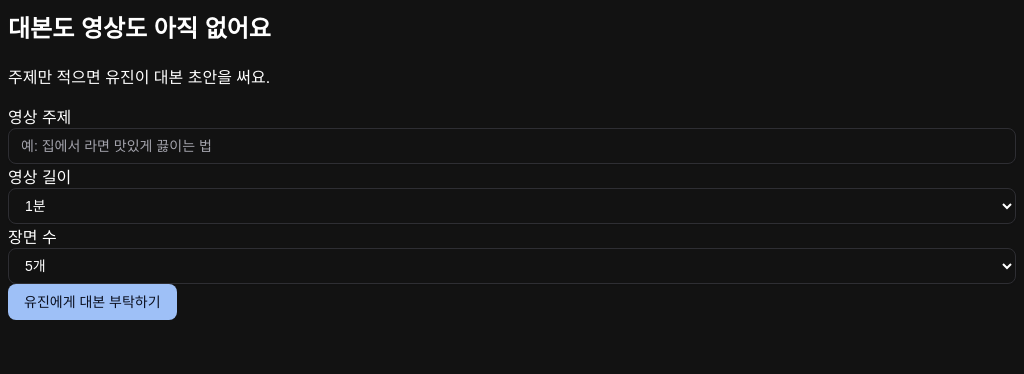
Test case: 유진이 대본 초안 쓰기 › 제 시간에 못 끝냈으면 짧게 부탁하라고 말한다
The width and height of the screenshot is (1024, 374).
In the field labelled "영상 주제": (512, 146) [8,128,1016,164], type "집에서 라면 맛있게 끓이는 법"
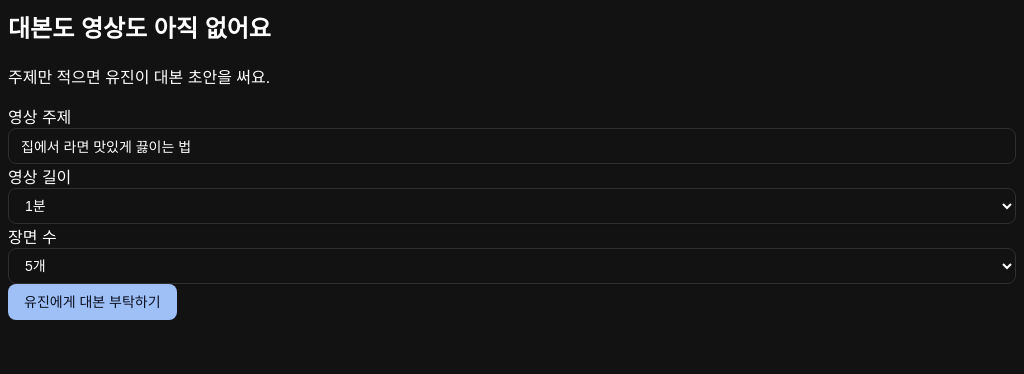
Click the button "유진에게 대본 부탁하기": (92, 302) [8,284,177,320]
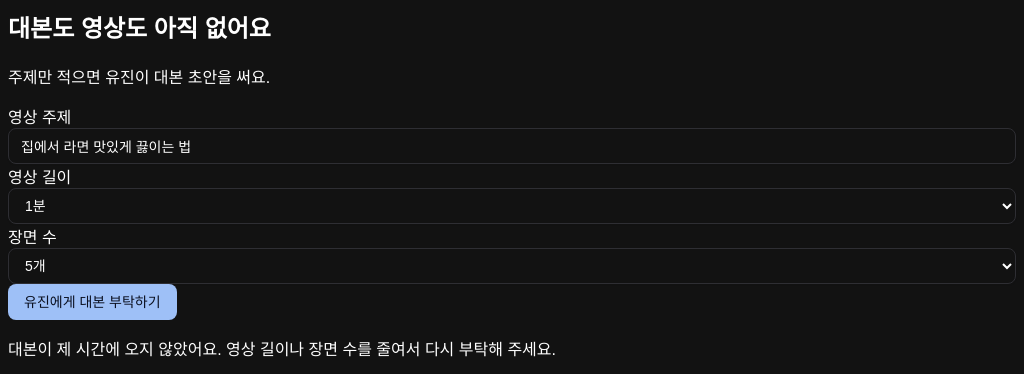
Expected: the message shows "길이나 장면 수를 줄여서", [8,341,556,358]
